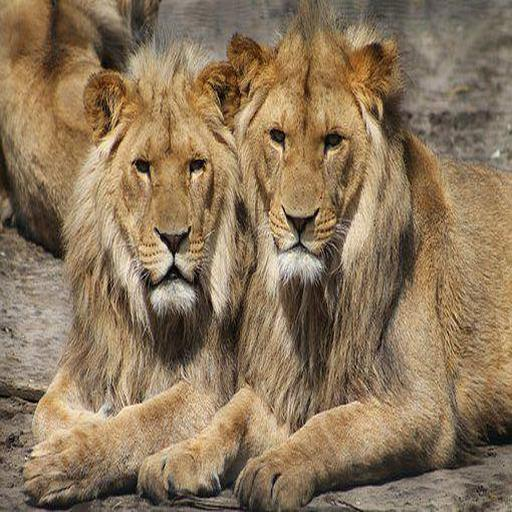Lion: (138, 0, 512, 506), (18, 54, 269, 512)
